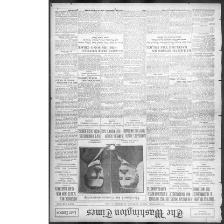news_paper: (48, 1, 223, 223)
